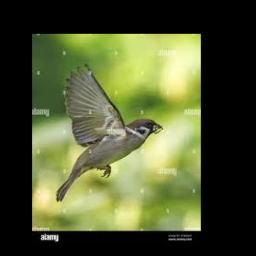Sparrow: (56, 64, 163, 201)
